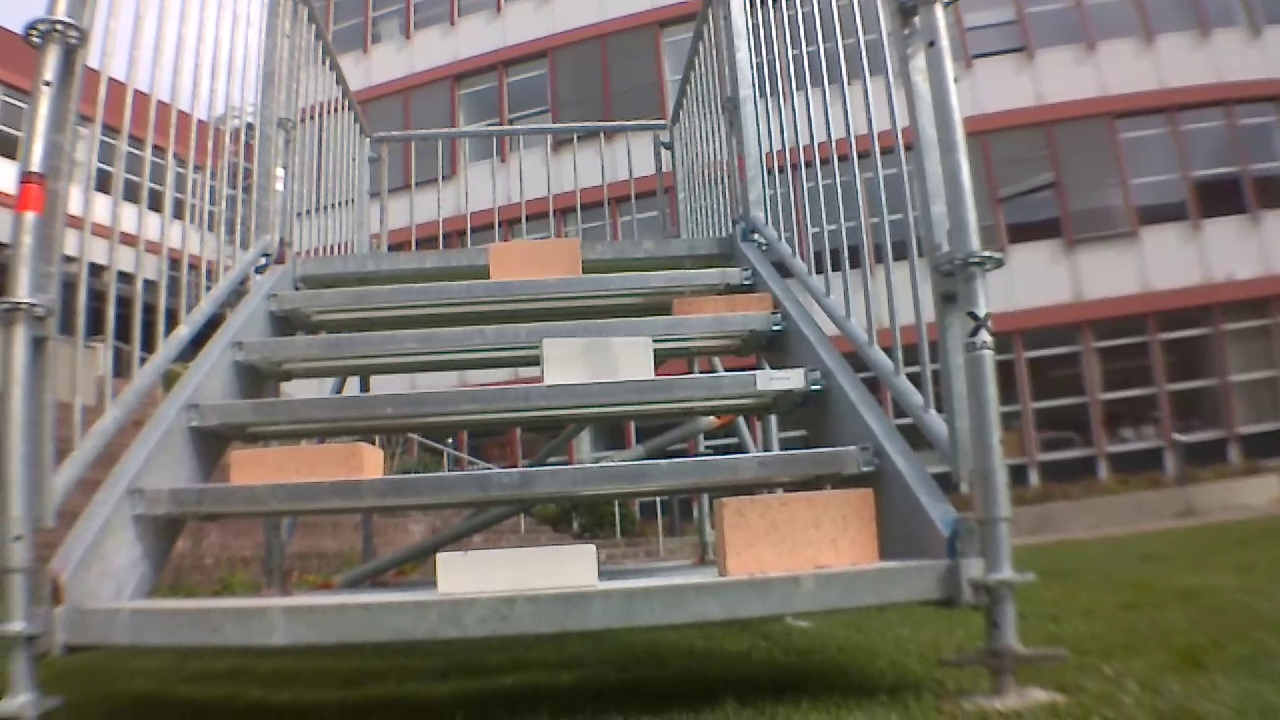brick: (715, 489, 878, 574), (437, 543, 597, 590), (232, 443, 382, 483), (541, 339, 654, 382), (488, 240, 579, 279), (674, 293, 770, 315)
edge: (64, 561, 949, 645), (130, 446, 880, 512), (188, 369, 828, 422), (233, 313, 783, 357), (268, 268, 756, 308), (296, 237, 736, 269)
stairs: (8, 2, 1046, 713)
steps: (54, 233, 956, 655)
